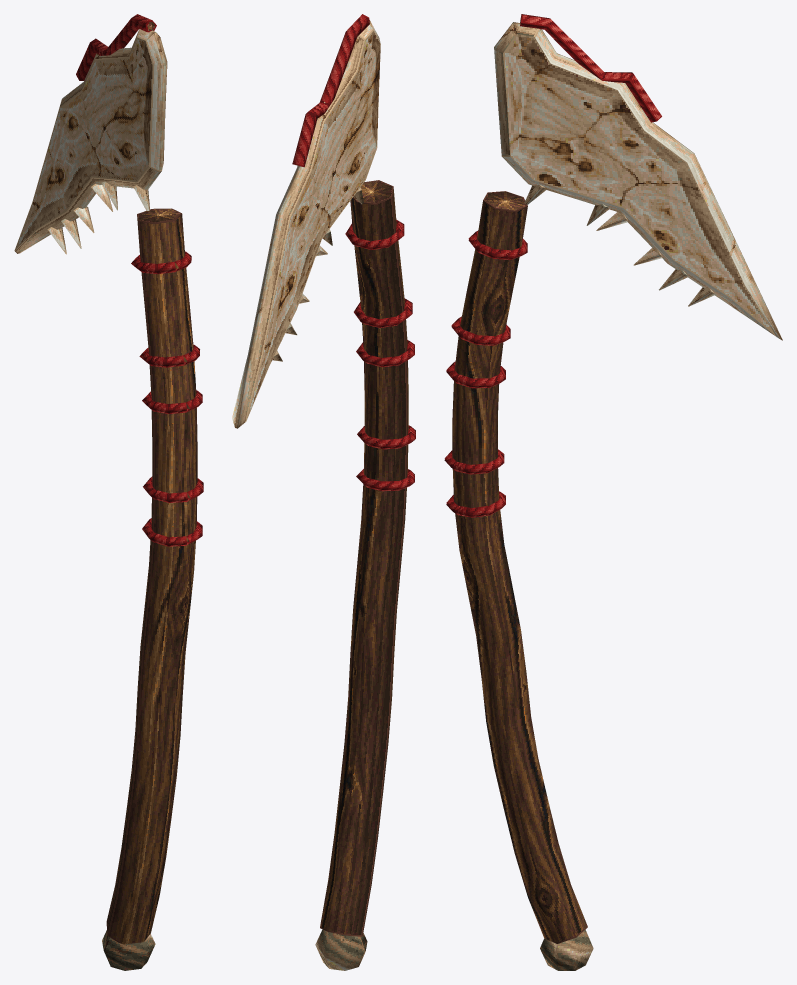
File: wolfjaw_sickle.glb
The picture shows the model from 3 angles, left to right: view 1: azimuth 30°, elevation 25°; view 2: azimuth 150°, elevation 25°; view 3: azimuth 270°, elevation 25°; orthographic projection. The views are drawn at different scales.
Parts seen in each view (by area): view 1: wolfjaw_sickle; view 2: wolfjaw_sickle; view 3: wolfjaw_sickle.
Part boxes in pixels (<box>): wolfjaw_sickle: <box>14,14,203,970</box>; wolfjaw_sickle: <box>232,14,415,970</box>; wolfjaw_sickle: <box>444,14,782,970</box>.
Bounding box in the file's own units: 0.04 × 0.6897 × 0.2209.
Materials: 1 (1 with a texture image).
